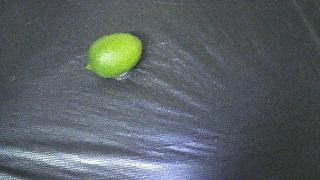LOCAL: (86, 33, 143, 78)
